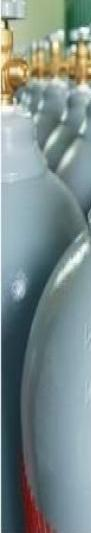cylinder: (0, 1, 91, 533)
